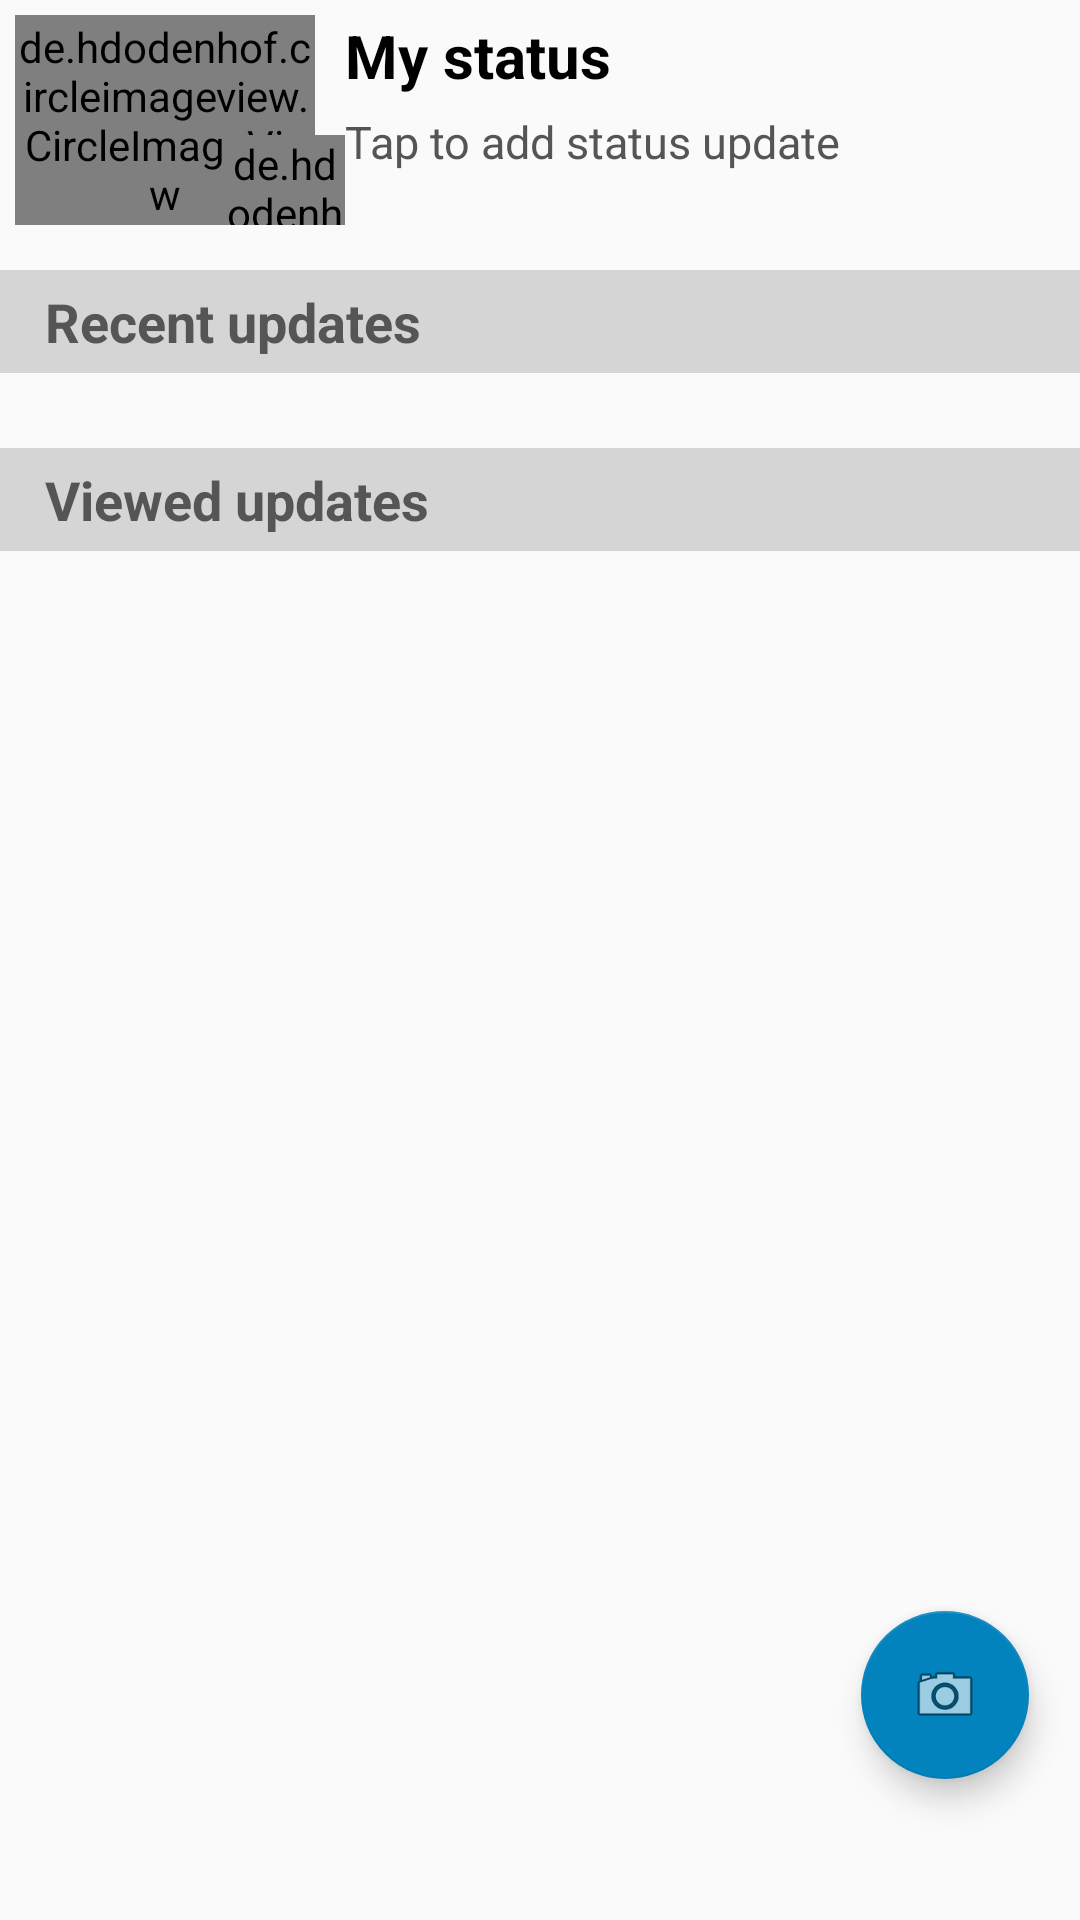

Icon click points for this 1080px×1920px phone screenshot, format (x=x, y=y):
camera: (x=945, y=1695)
